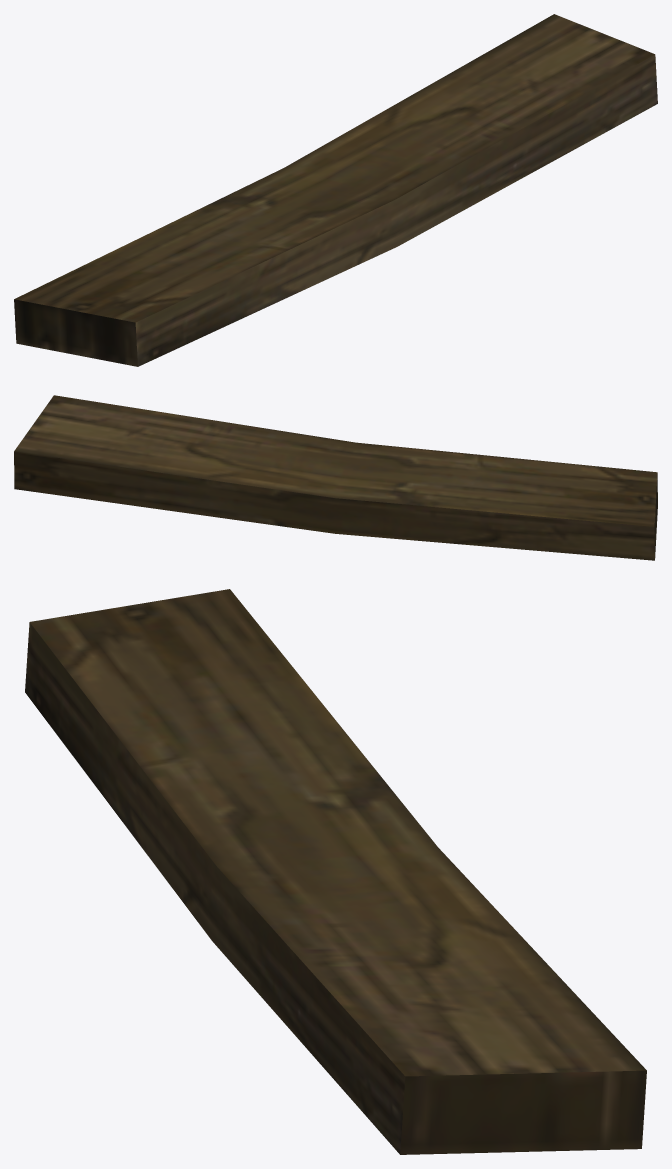
The model's file is Battle04_Wood_02.FBX.
3 renders of one model, top to bottom at view 1: azimuth 30°, elevation 25°; view 2: azimuth 150°, elevation 25°; view 3: azimuth 270°, elevation 25°, orthographic. The views are drawn at different scales.
Visible parts, largest first — view 1: Battle04_Wood_02; view 2: Battle04_Wood_02; view 3: Battle04_Wood_02.
Boxes of the visible parts, bbox=[...] form: Battle04_Wood_02: bbox=[14, 14, 657, 366]; Battle04_Wood_02: bbox=[14, 395, 657, 560]; Battle04_Wood_02: bbox=[25, 589, 646, 1154].
Bounding box in the file's own units: 6.27 × 0.6786 × 3.03.
